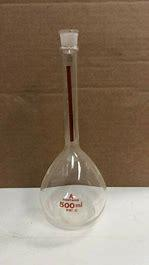Volumetric flask: (27, 18, 119, 229)
